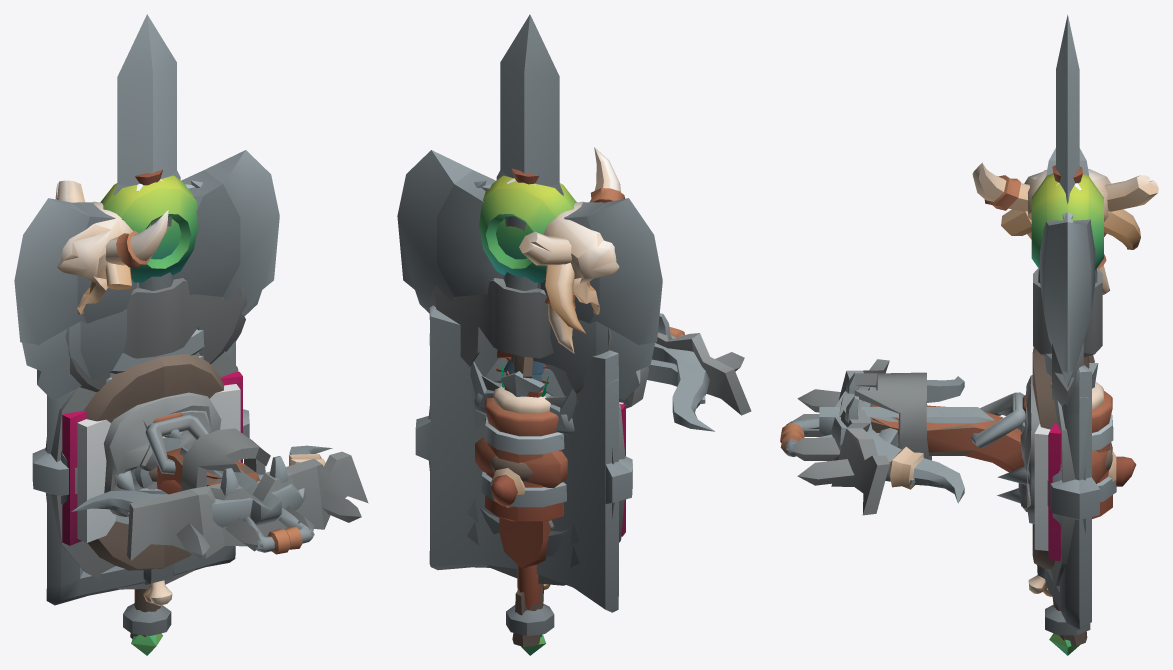
The model's file is weapons.glb.
3 renders of one model, left to right at view 1: azimuth 30°, elevation 25°; view 2: azimuth 150°, elevation 25°; view 3: azimuth 270°, elevation 25°, orthographic.
Parts seen in each view (by area): view 1: axe_2handed, Skeleton_Crossbow, Skeleton_Shield_Large_A, sword_2handed, Skeleton_Axe, staff, Skeleton_Staff, crossbow_2handed, spellbook_open, shield_square, axe_1handed, shield_spikes (+1 smaller); view 2: shield_square, axe_2handed, sword_2handed, Skeleton_Staff, staff, Skeleton_Axe, mug_full, axe_1handed, Skeleton_Crossbow, crossbow_2handed, Skeleton_Shield_Large_A, shield_spikes (+6 smaller); view 3: Skeleton_Crossbow, crossbow_2handed, axe_2handed, Skeleton_Staff, Skeleton_Shield_Large_A, shield_square, staff, crossbow_1handed, shield_spikes, sword_2handed, spellbook_open, Skeleton_Axe (+1 smaller).
Part boxes in pixels (x1=…): axe_2handed: x1=14, y1=150, x2=279, y2=345; Skeleton_Crossbow: x1=127, y1=418, x2=368, y2=561; Skeleton_Shield_Large_A: x1=45, y1=351, x2=238, y2=589; sword_2handed: x1=117, y1=14, x2=176, y2=185; Skeleton_Axe: x1=65, y1=278, x2=247, y2=391; staff: x1=100, y1=175, x2=203, y2=655; Skeleton_Staff: x1=55, y1=180, x2=172, y2=638; crossbow_2handed: x1=71, y1=445, x2=332, y2=554; spellbook_open: x1=62, y1=371, x2=242, y2=545; shield_square: x1=46, y1=329, x2=235, y2=605; axe_1handed: x1=22, y1=282, x2=139, y2=400; shield_spikes: x1=32, y1=343, x2=249, y2=584; shield_square: x1=429, y1=305, x2=618, y2=612; axe_2handed: x1=397, y1=150, x2=662, y2=382; sword_2handed: x1=470, y1=14, x2=576, y2=428; Skeleton_Staff: x1=512, y1=147, x2=624, y2=646; staff: x1=474, y1=175, x2=576, y2=655; Skeleton_Axe: x1=429, y1=278, x2=611, y2=397; mug_full: x1=481, y1=386, x2=566, y2=521; axe_1handed: x1=511, y1=282, x2=654, y2=400; Skeleton_Crossbow: x1=619, y1=332, x2=751, y2=415; crossbow_2handed: x1=651, y1=313, x2=714, y2=431; Skeleton_Shield_Large_A: x1=428, y1=403, x2=625, y2=585; shield_spikes: x1=415, y1=333, x2=632, y2=567; Skeleton_Crossbow: x1=786, y1=359, x2=1014, y2=515; crossbow_2handed: x1=780, y1=372, x2=1021, y2=503; axe_2handed: x1=1038, y1=148, x2=1097, y2=387; Skeleton_Staff: x1=972, y1=162, x2=1158, y2=645; Skeleton_Shield_Large_A: x1=1020, y1=347, x2=1108, y2=587; shield_square: x1=1044, y1=354, x2=1091, y2=630; staff: x1=1031, y1=173, x2=1103, y2=655; crossbow_1handed: x1=872, y1=392, x2=1136, y2=486; shield_spikes: x1=997, y1=382, x2=1099, y2=578; sword_2handed: x1=1056, y1=14, x2=1098, y2=388; spellbook_open: x1=1034, y1=423, x2=1061, y2=560; Skeleton_Axe: x1=1033, y1=268, x2=1102, y2=406.
Size of the model in its own units: 1.24 by 2.86 by 1.53.
5 materials, 5 textured.
